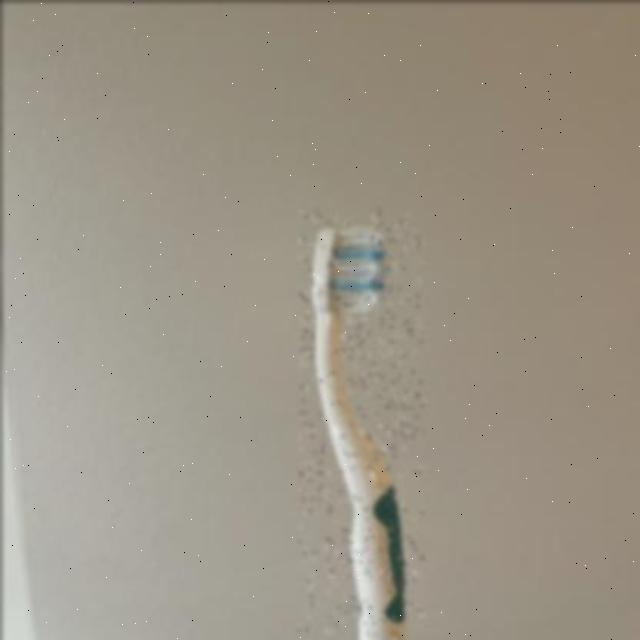toothbrush: (296, 208, 422, 640)
